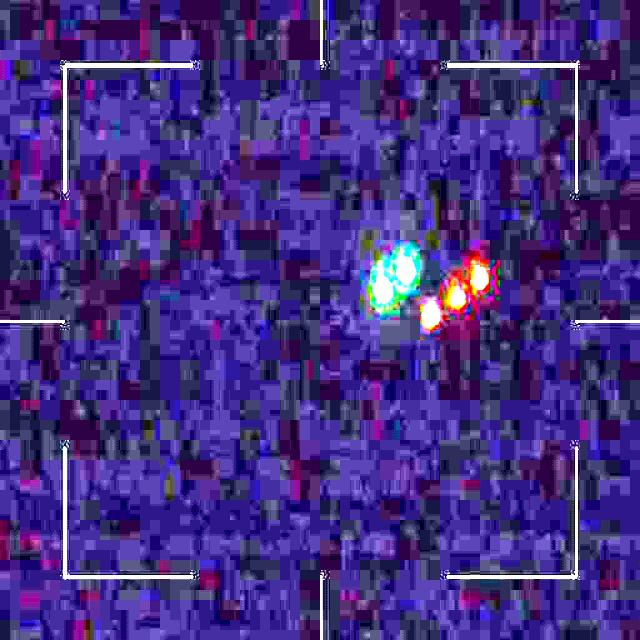bird: (374, 251, 489, 329)
